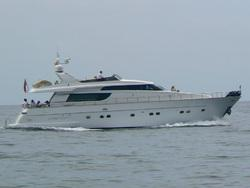yacht: (8, 47, 244, 130)
